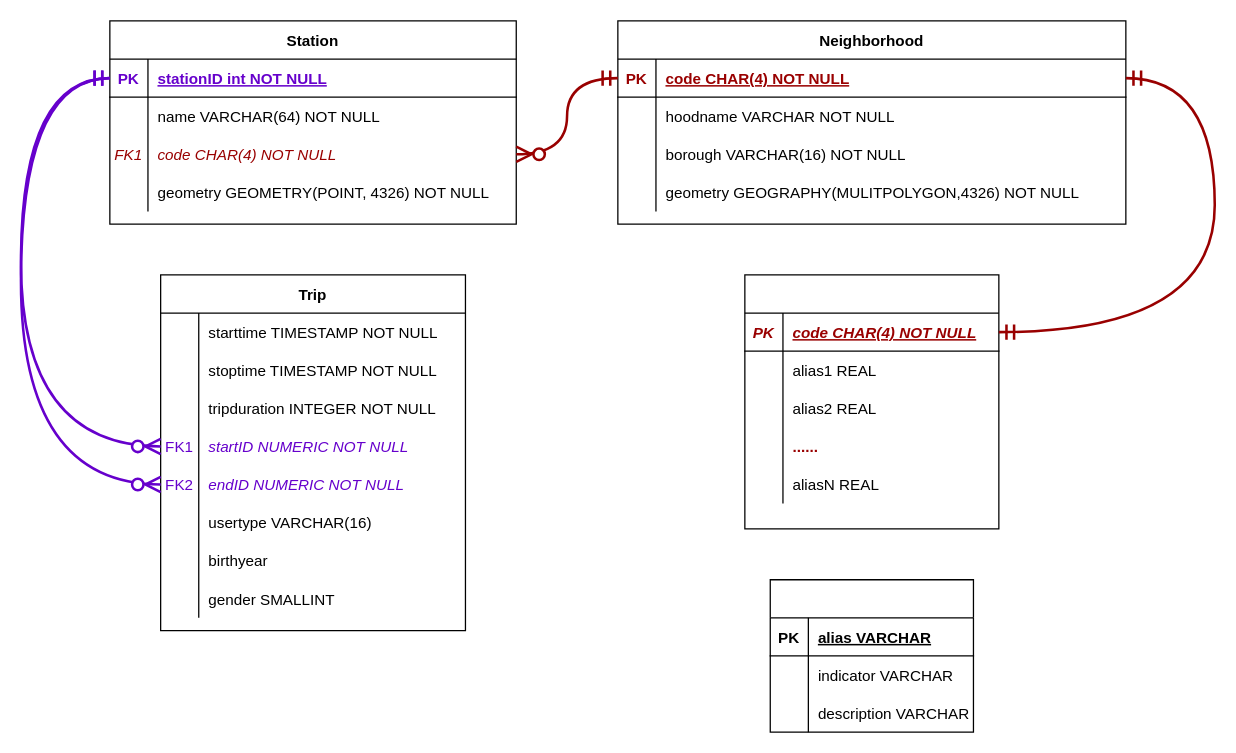
The diagram is 1236 pixels wide and 753 high, and some of its shapes have lost their labels. Each missing label, with the box of its shape:
Lookup: (769, 578, 973, 732)
Profile: (744, 274, 999, 529)
